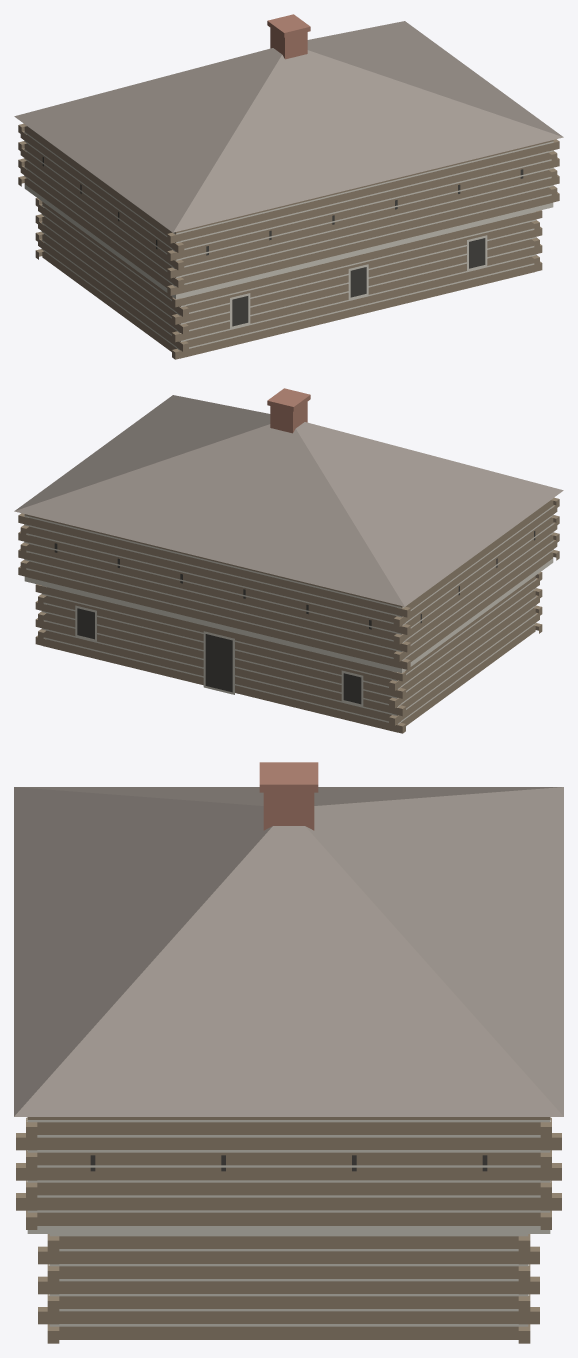
The model's file is fort_dearborn_blockhouse__log_1816.glb.
The picture shows the model from 3 angles, top to bottom: view 1: azimuth 30°, elevation 25°; view 2: azimuth 150°, elevation 25°; view 3: azimuth 270°, elevation 25°; orthographic projection. The views are drawn at different scales.
Visible parts, largest first — view 1: fort_dearborn_blockhouse__log_1816; view 2: fort_dearborn_blockhouse__log_1816; view 3: fort_dearborn_blockhouse__log_1816.
Boxes of the visible parts, x1,y1,x2,y2 form: fort_dearborn_blockhouse__log_1816: (14, 14, 563, 359); fort_dearborn_blockhouse__log_1816: (14, 388, 563, 733); fort_dearborn_blockhouse__log_1816: (14, 762, 563, 1343).
Bounding box in the file's own units: 15.98 × 9.48 × 11.26.
